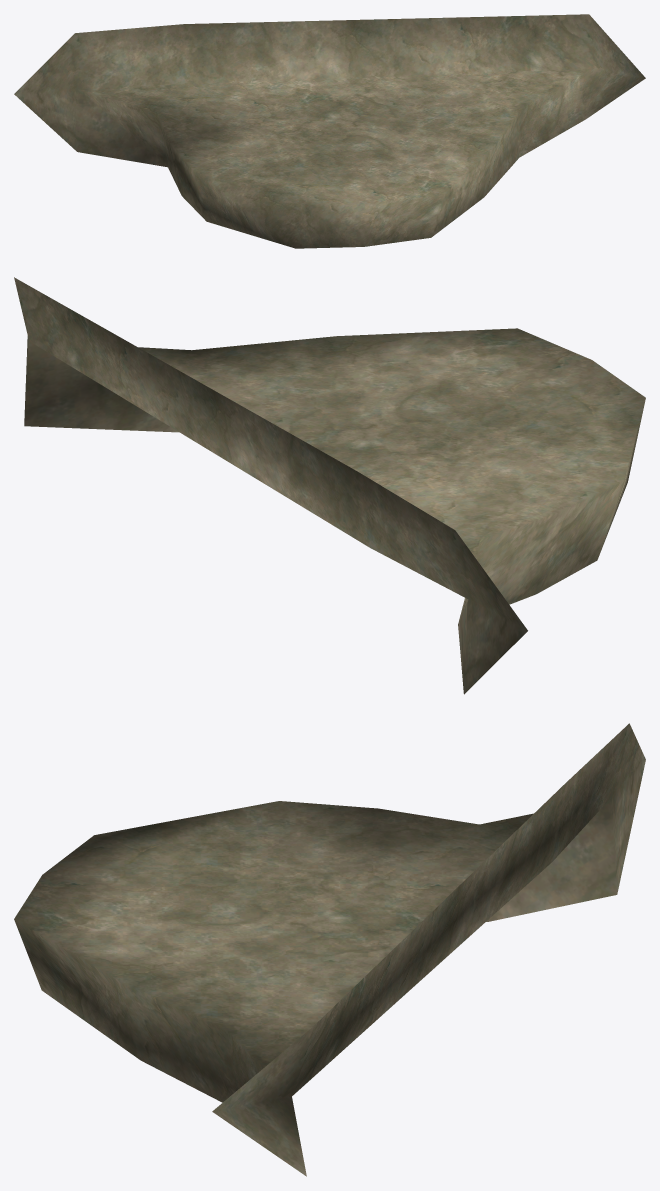
Rendered from OVERHILL_A_01_OBJECT208.fbx.
The picture shows the model from 3 angles, top to bottom: view 1: azimuth 30°, elevation 25°; view 2: azimuth 150°, elevation 25°; view 3: azimuth 270°, elevation 25°; orthographic projection. The views are drawn at different scales.
Parts seen in each view (by area): view 1: OVERHILL_A_01_OBJECT208; view 2: OVERHILL_A_01_OBJECT208; view 3: OVERHILL_A_01_OBJECT208.
Part boxes in pixels (x1=…): OVERHILL_A_01_OBJECT208: x1=14, y1=14, x2=645, y2=248; OVERHILL_A_01_OBJECT208: x1=14, y1=277, x2=645, y2=694; OVERHILL_A_01_OBJECT208: x1=14, y1=723, x2=645, y2=1176.
Size of the model in its own units: 47309 by 11002 by 35455.
Materials: 1 (1 with a texture image).
